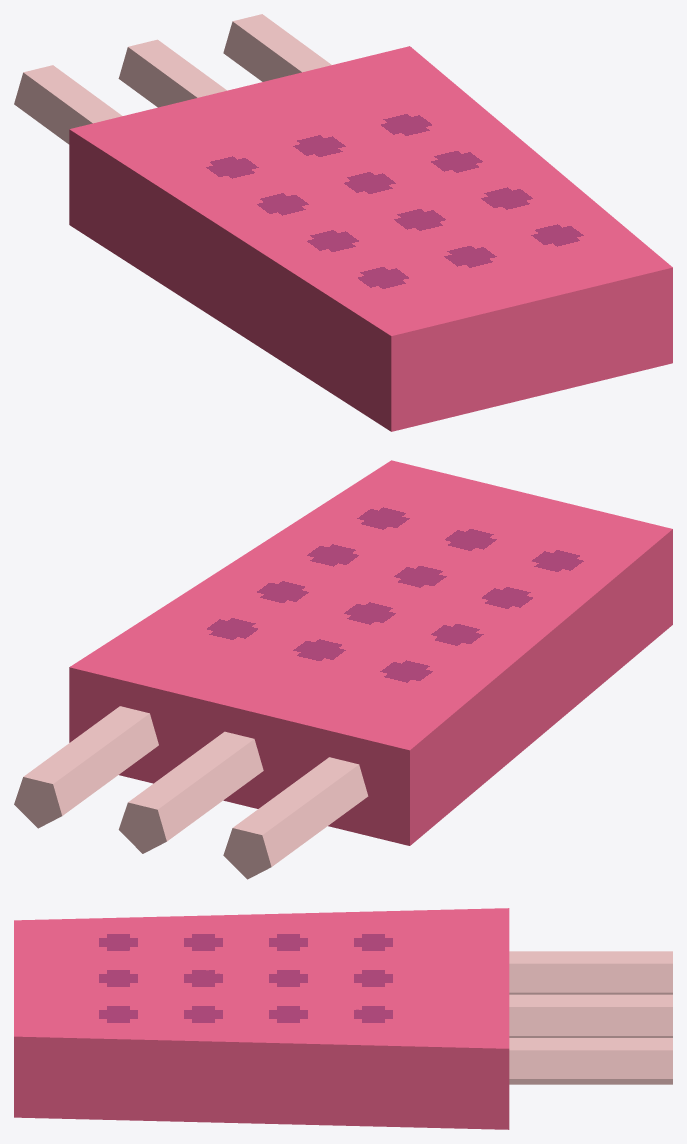
Rendered from humidity-sensor.fbx.
The picture shows the model from 3 angles, top to bottom: view 1: azimuth 30°, elevation 25°; view 2: azimuth 150°, elevation 25°; view 3: azimuth 270°, elevation 25°; orthographic projection. The views are drawn at different scales.
Visible parts, largest first — view 1: HumiditySensor; view 2: HumiditySensor; view 3: HumiditySensor.
Part boxes in pixels (x1,y1,x2,y2): HumiditySensor: (14,14,672,431); HumiditySensor: (14,460,672,879); HumiditySensor: (14,908,672,1129).
Bounding box in the file's own units: 7.26 × 1.95 × 14.37.
Materials: 1 (1 with a texture image).
